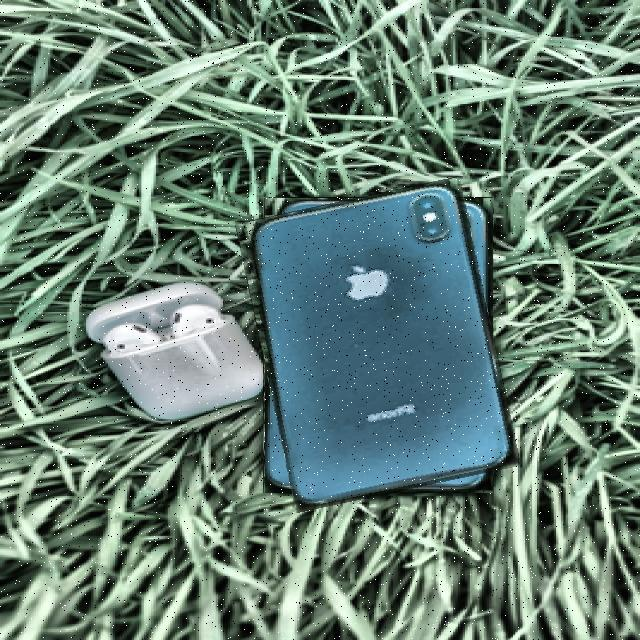Phone: (250, 186, 508, 504)
